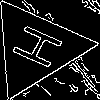H: (10, 23, 74, 75)
